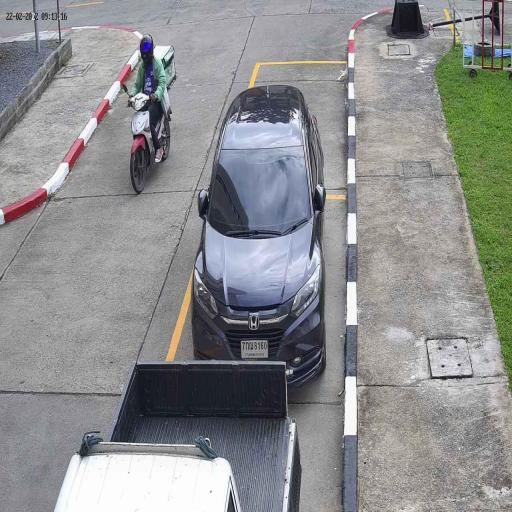car: (191, 84, 327, 386), (54, 362, 301, 512)
motorcycle: (130, 93, 171, 193)
